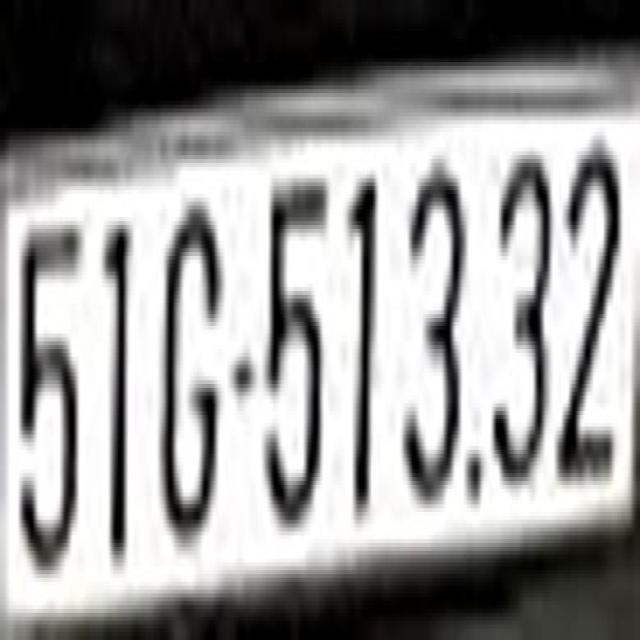1: (344, 157, 377, 518), (100, 200, 132, 564)
2: (557, 132, 621, 485)
3: (401, 144, 462, 512), (490, 136, 550, 496)
5: (263, 154, 328, 534), (18, 200, 82, 572)
G: (160, 178, 222, 547)
